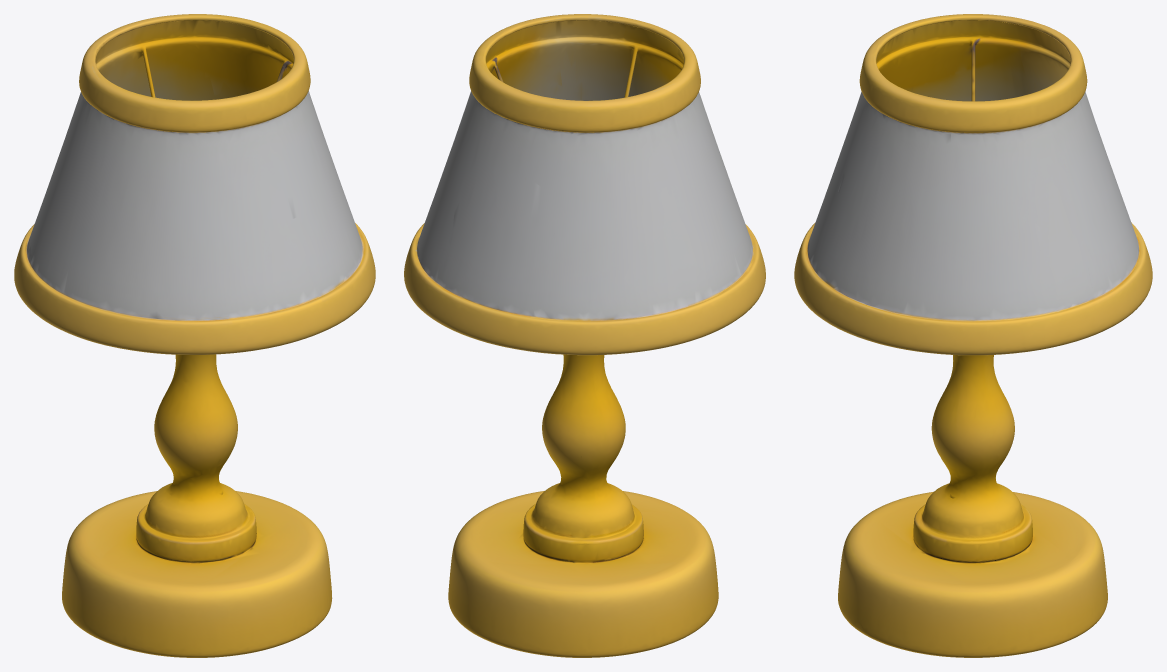
3 renders of one model, left to right at view 1: azimuth 30°, elevation 25°; view 2: azimuth 150°, elevation 25°; view 3: azimuth 270°, elevation 25°, orthographic.
Visible parts, largest first — view 1: node_0; view 2: node_0; view 3: node_0.
Boxes of the visible parts, box(x1,y1,x2,y2) form: node_0: box(14, 14, 375, 657); node_0: box(404, 14, 765, 657); node_0: box(794, 14, 1152, 657).
Size of the model in its own units: 0.6625 by 1.1 by 0.6572.
Materials: 1 (1 with a texture image).
